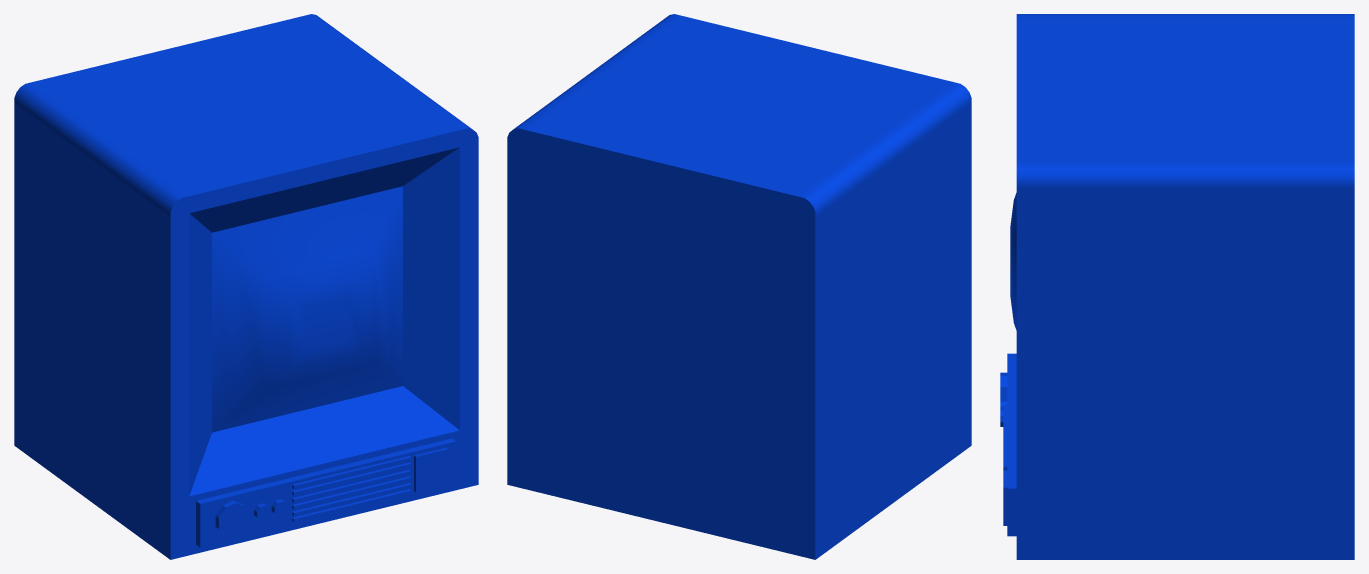
The model's file is Muse_tv5_exp_001.fbx.
The picture shows the model from 3 angles, left to right: view 1: azimuth 30°, elevation 25°; view 2: azimuth 150°, elevation 25°; view 3: azimuth 270°, elevation 25°; orthographic projection. The views are drawn at different scales.
Parts seen in each view (by area): view 1: pCube20, pCube22, pCube25, pCylinder5, pCube24, pCube27, pCube28, pCube23, pCube21, pCube26; view 2: pCube20; view 3: pCube20, pCube22.
Boxes of the visible parts, x1,y1,x2,y2 form: pCube20: [14, 14, 478, 559]; pCube22: [196, 438, 456, 547]; pCube25: [414, 447, 448, 492]; pCylinder5: [215, 500, 249, 536]; pCube24: [292, 476, 411, 509]; pCube27: [292, 489, 411, 522]; pCube28: [292, 483, 411, 516]; pCube23: [292, 456, 411, 489]; pCube21: [292, 462, 411, 495]; pCube26: [292, 469, 411, 502]; pCube20: [507, 14, 971, 559]; pCube20: [1010, 14, 1354, 559]; pCube22: [1007, 353, 1016, 536].
Size of the model in its own units: 1.82 by 2.03 by 1.68.
